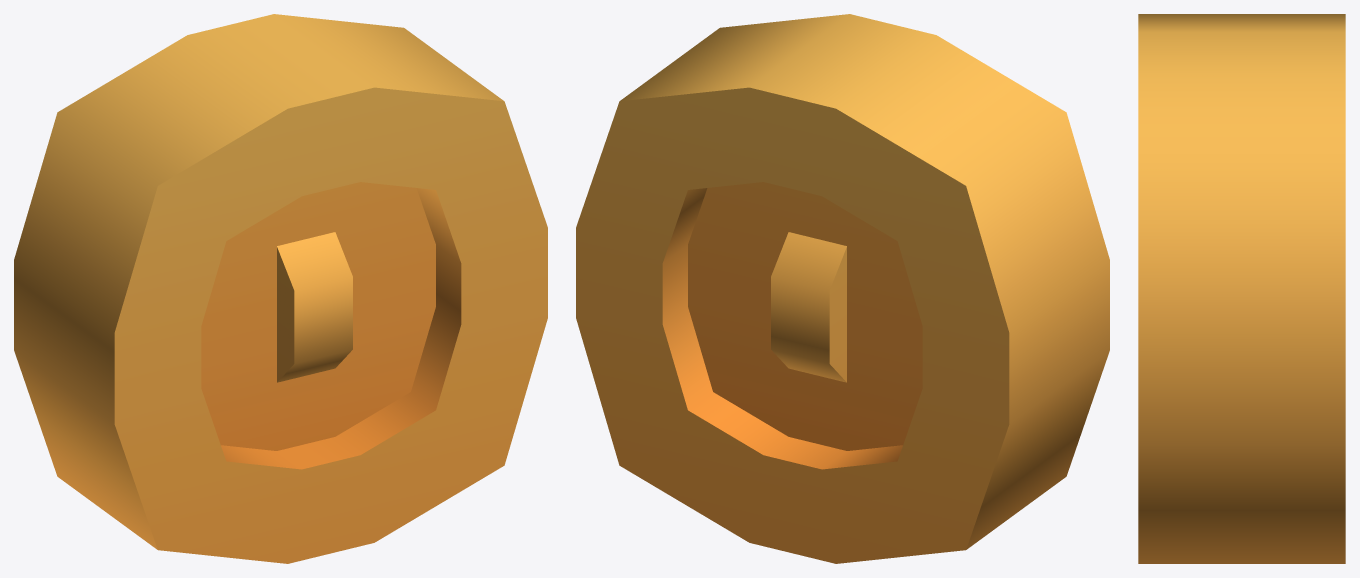
The model's file is coin.glb.
3 views of the same model, side by side, from view 1: azimuth 30°, elevation 25°; view 2: azimuth 150°, elevation 25°; view 3: azimuth 270°, elevation 25° (orthographic). The views are drawn at different scales.
Visible parts, largest first — view 1: coin; view 2: coin; view 3: coin.
Part boxes in pixels (box(x1,y1,x2,y2)): coin: box(14, 14, 547, 563); coin: box(576, 14, 1109, 563); coin: box(1138, 14, 1345, 563).
Bounding box in the file's own units: 0.415 × 0.4167 × 0.1666.
1 material, 1 textured.
